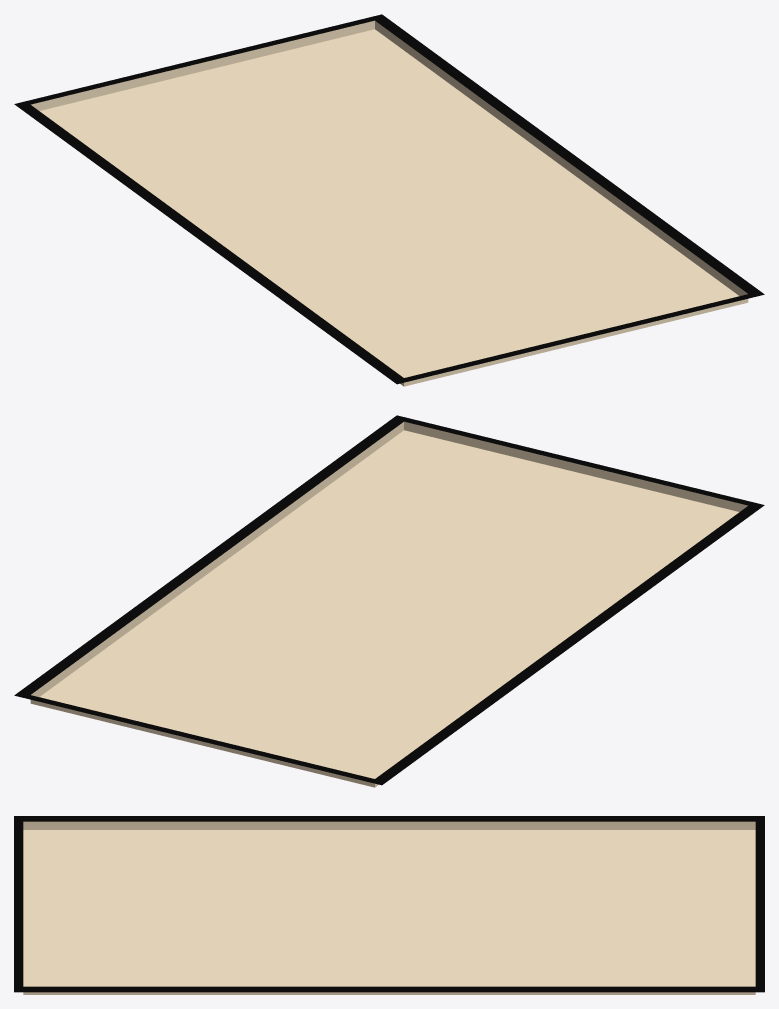
The model's file is Ceiling_Light.fbx.
3 views of the same model, one above another, from view 1: azimuth 30°, elevation 25°; view 2: azimuth 150°, elevation 25°; view 3: azimuth 270°, elevation 25° (orthographic).
Visible parts, largest first — view 1: Plane.002; view 2: Plane.002; view 3: Plane.002.
Part boxes in pixels (x1,y1,x2,y2): Plane.002: (14, 14, 764, 386); Plane.002: (14, 415, 764, 787); Plane.002: (14, 816, 764, 994).
Bounding box in the file's own units: 260 × 5.8 × 468.
